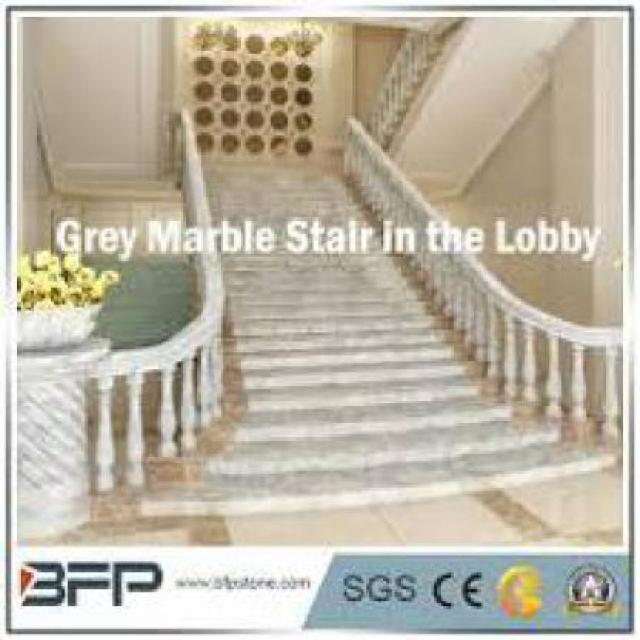stair: (212, 314, 582, 486)
